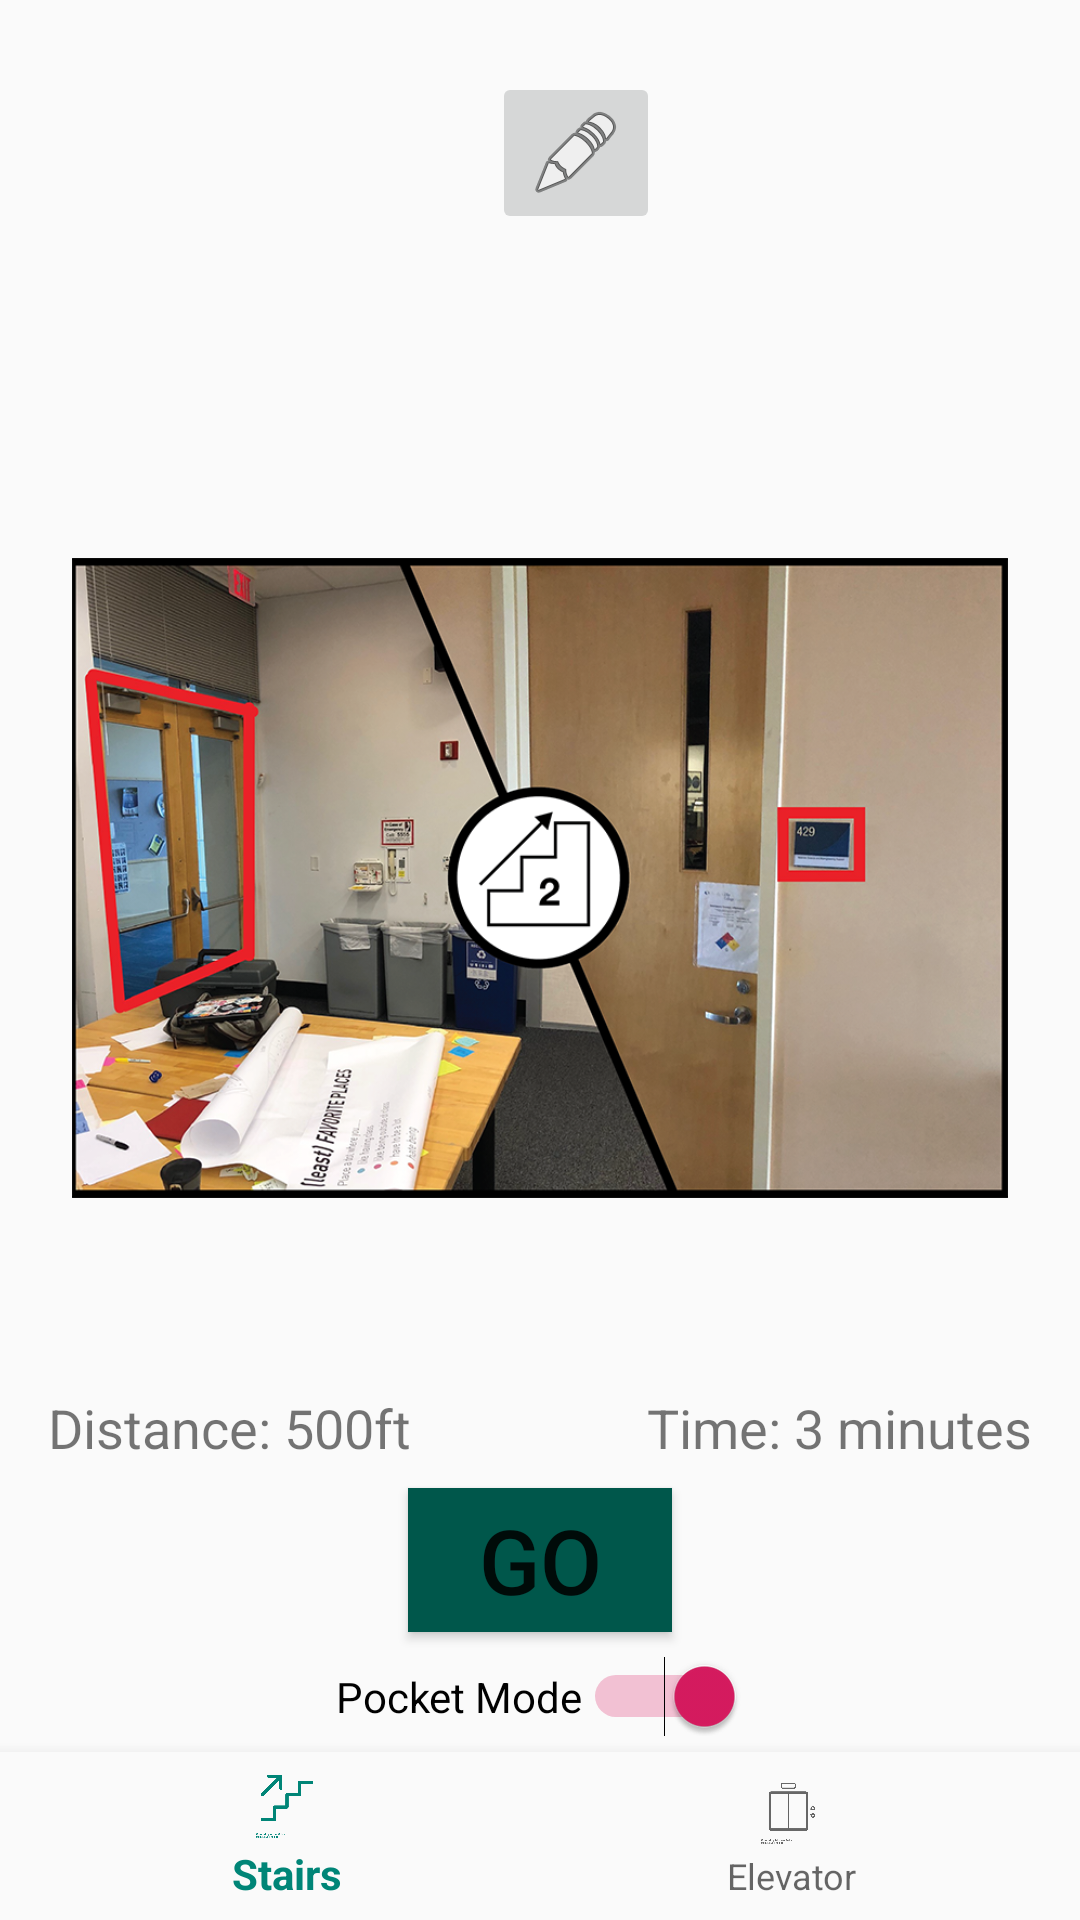

Named icons in this screenshot (1080 × 1920) and their centers, point (x, y):
edit: point (576, 153)
